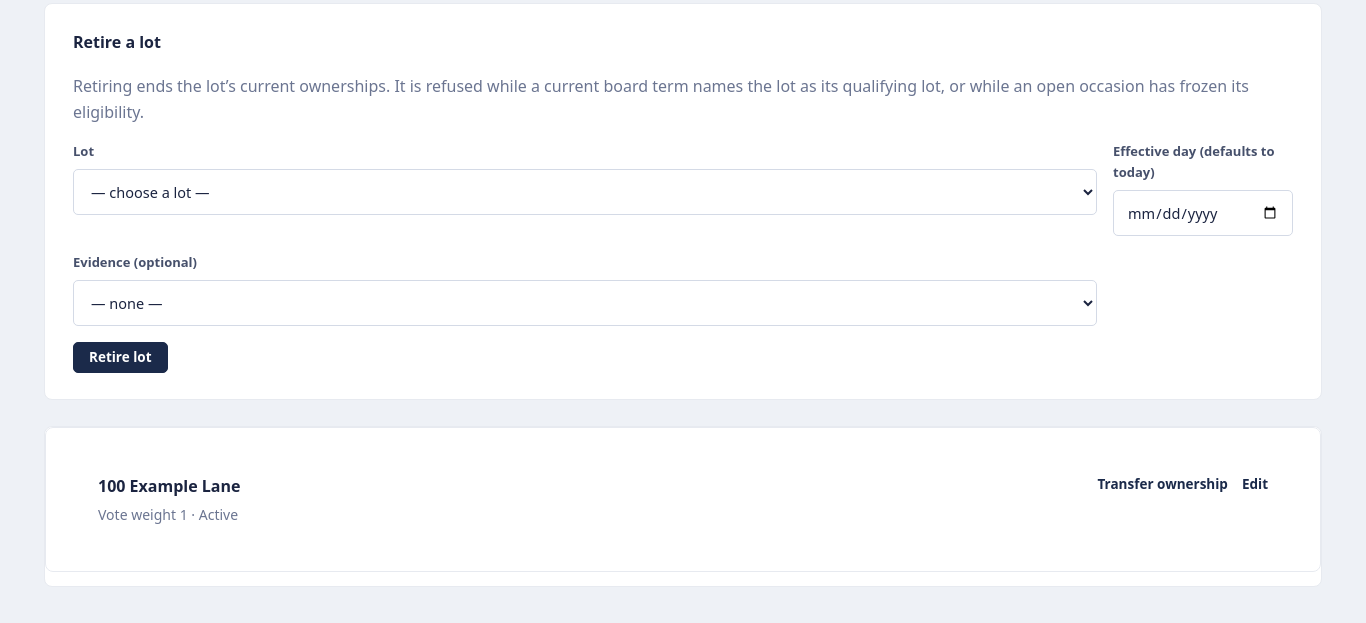
Test case: names each Tenancy the transfer will end
(page scrolled)
Click the button with aria-label "Transfer ownership: 100 Example Lane" at (1163, 485), box [1098,474,1228,496]
(page scrolled)
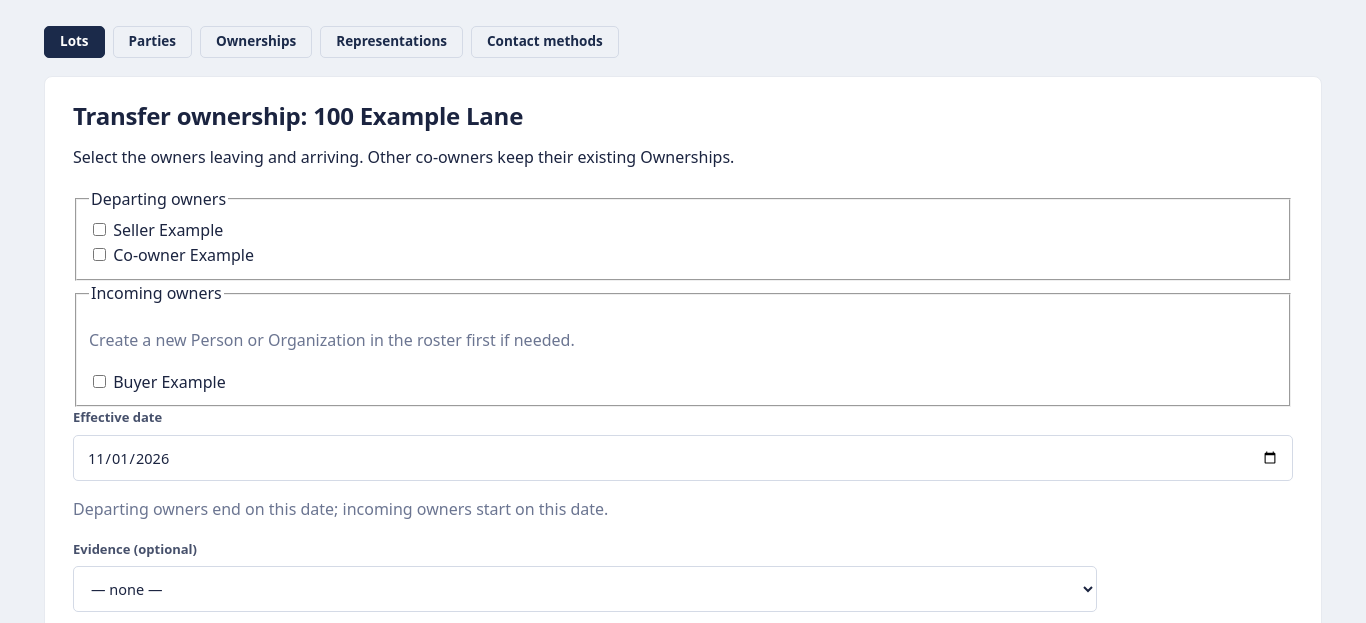
Click the checkbox labelled "Seller Example" at (100, 229), box [93,223,106,236]
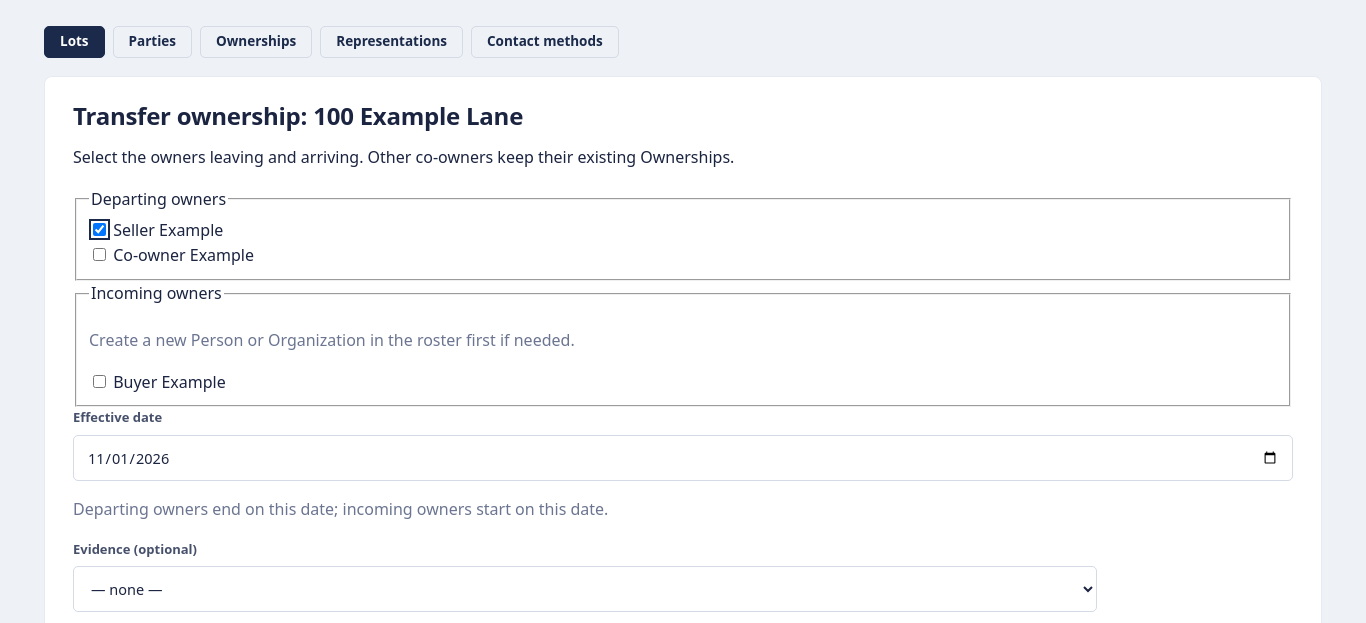
Click the checkbox labelled "Buyer Example" at (100, 381), box [93,375,106,388]
(page scrolled)
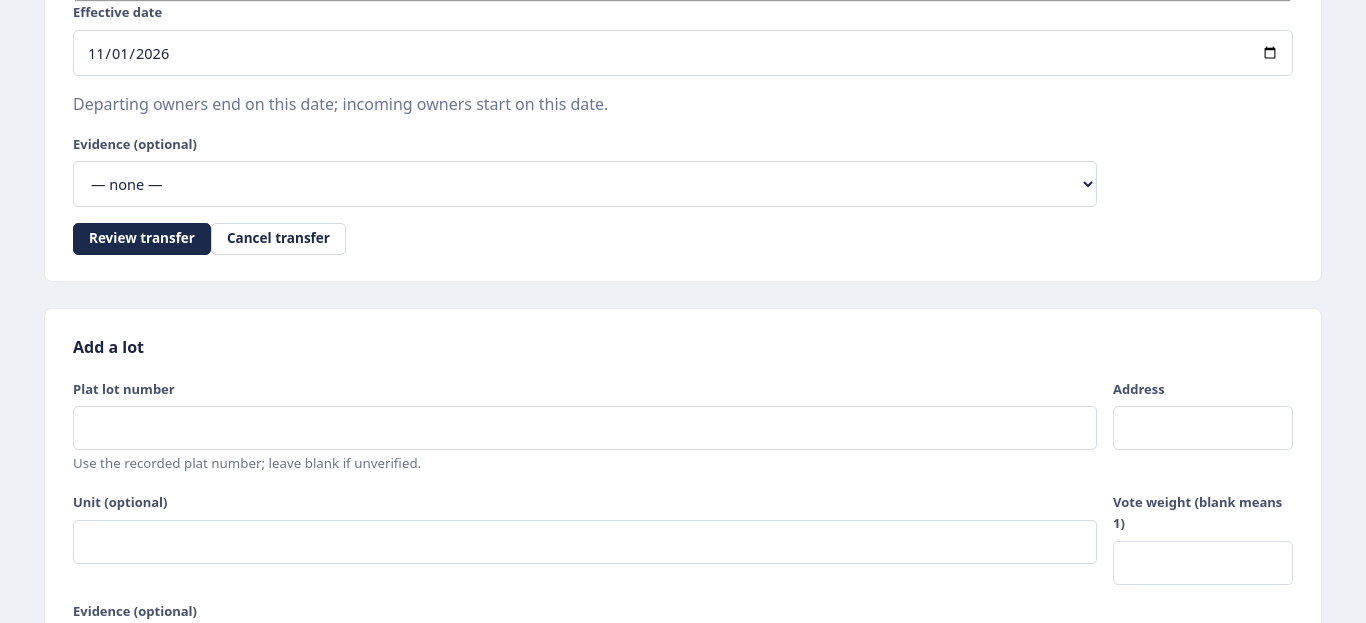
Click the button "Review transfer" at (142, 239), box [73,224,211,255]
(page scrolled)
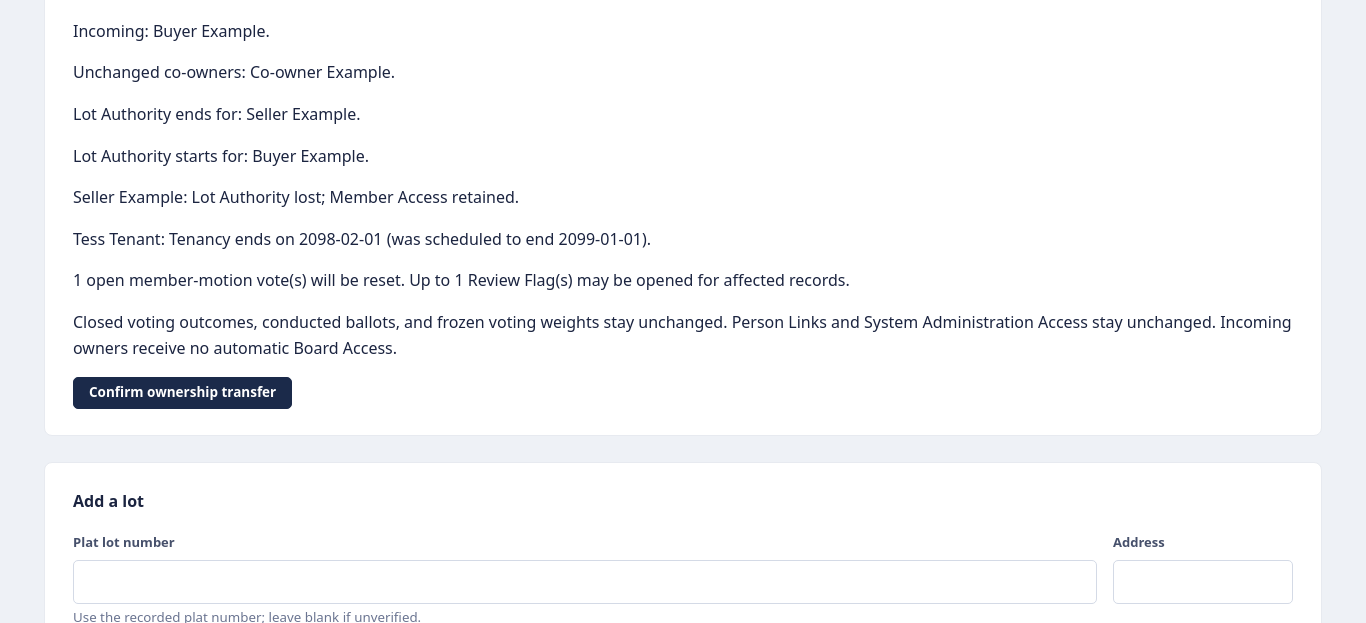
Result: the text "Tess Tenant: Tenancy ends on 2098-02-01 (was scheduled to end 2099-01-01)." is shown at [73,228,651,250]
